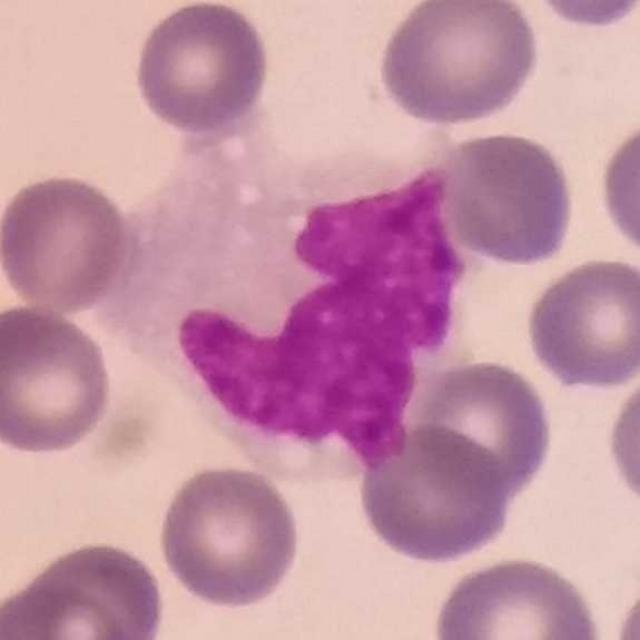Monocyte: (92, 117, 468, 485)
RBC: (353, 419, 515, 566), (154, 460, 306, 612), (408, 355, 556, 504), (373, 0, 544, 128), (434, 127, 580, 269), (0, 168, 139, 317), (129, 0, 275, 138), (0, 300, 117, 458), (6, 537, 169, 640), (521, 253, 640, 393), (428, 552, 606, 640), (0, 582, 135, 640), (595, 112, 640, 270), (602, 357, 640, 520), (517, 0, 640, 31), (607, 567, 640, 640)
